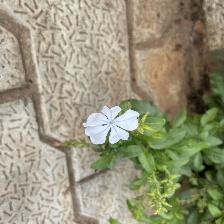chitrak: (87, 106, 143, 147)
